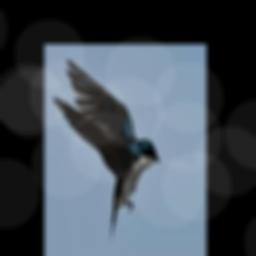Swallow: (53, 58, 159, 240)
